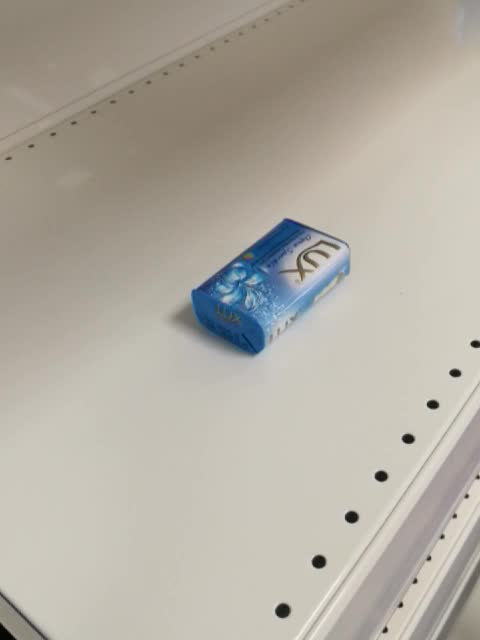soap: (189, 216, 351, 356)
